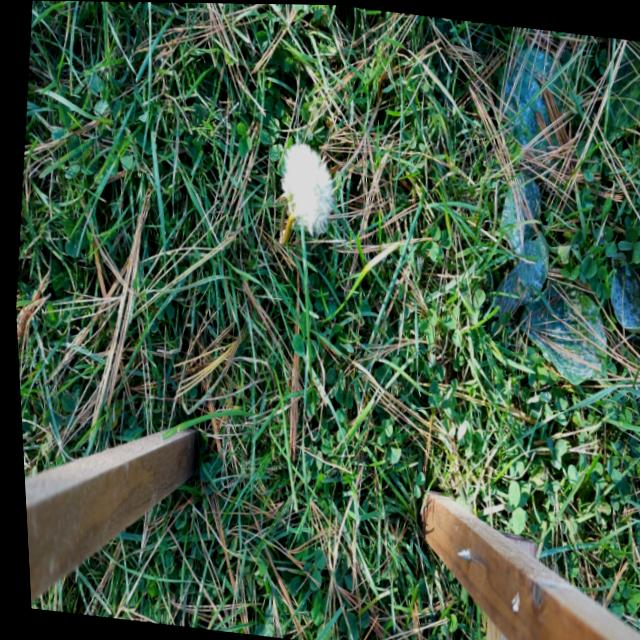base: (269, 191, 294, 226)
